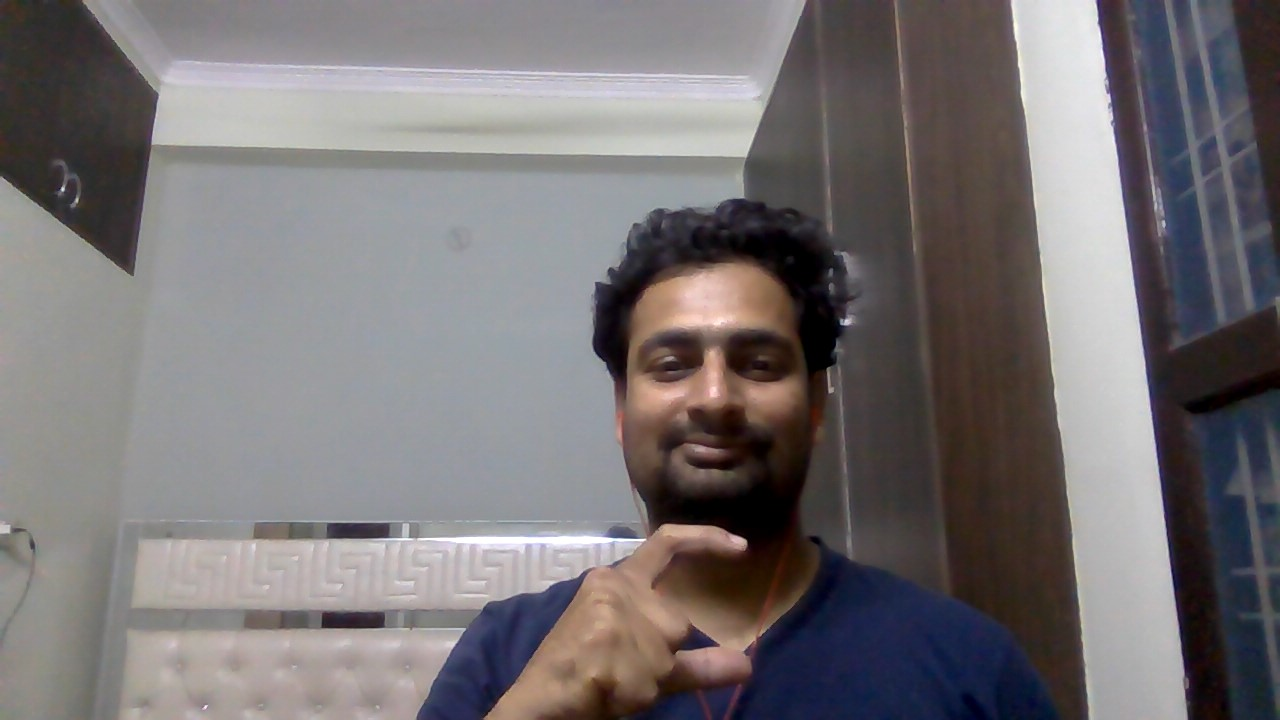Paste: (494, 520, 801, 720)
